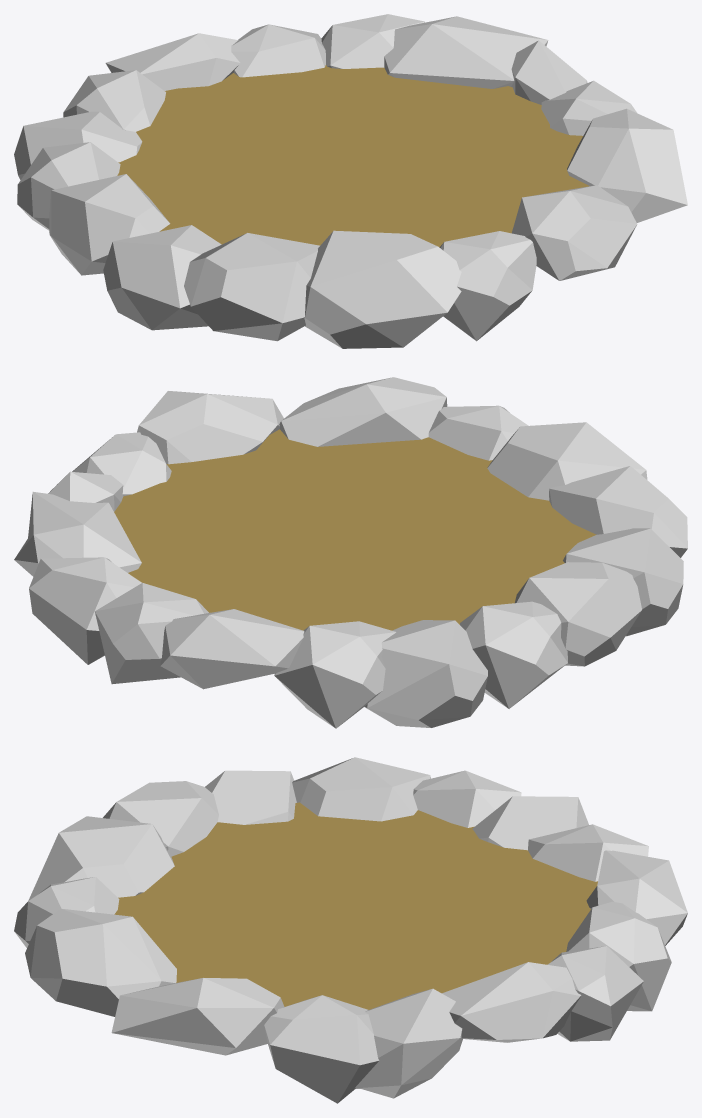
3 renders of one model, top to bottom at view 1: azimuth 30°, elevation 25°; view 2: azimuth 150°, elevation 25°; view 3: azimuth 270°, elevation 25°, orthographic. The views are drawn at different scales.
Parts seen in each view (by area): view 1: SM_B_12; view 2: SM_B_12; view 3: SM_B_12.
Boxes of the visible parts, x1=… form: SM_B_12: x1=14, y1=14, x2=687, y2=348; SM_B_12: x1=14, y1=377, x2=687, y2=728; SM_B_12: x1=14, y1=757, x2=687, y2=1103.
Size of the model in its own units: 238 by 45.98 by 244.
